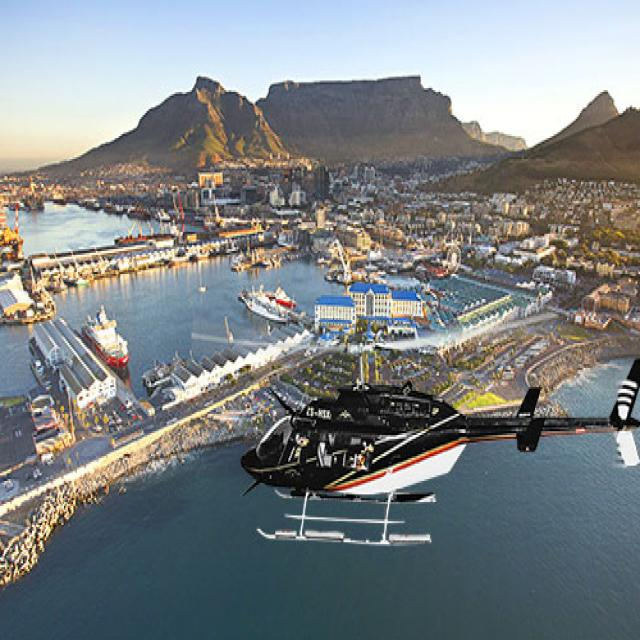helicopter: (241, 324, 640, 566)
